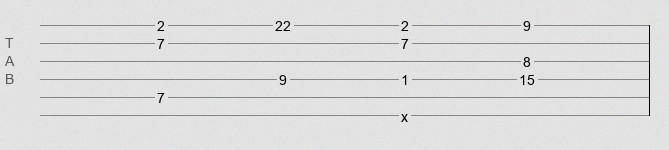1: (401, 72, 409, 82)
15: (519, 72, 535, 82)
2: (157, 18, 165, 28), (401, 18, 409, 28)
22: (275, 18, 291, 28)
7: (157, 36, 165, 46), (157, 90, 165, 100), (401, 36, 409, 46)
8: (523, 54, 531, 64)
9: (279, 72, 287, 82), (523, 18, 531, 28)
x: (401, 109, 408, 117)
